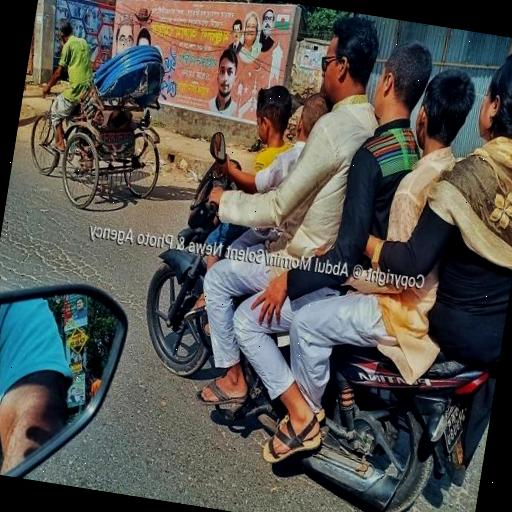no helmet: (298, 14, 390, 140)
triple riding: (128, 1, 512, 512)
